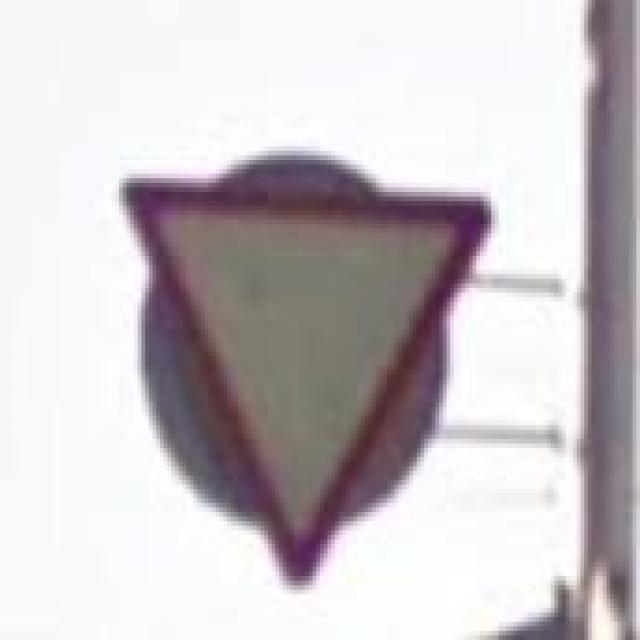traffic_sign: (119, 173, 495, 590)
